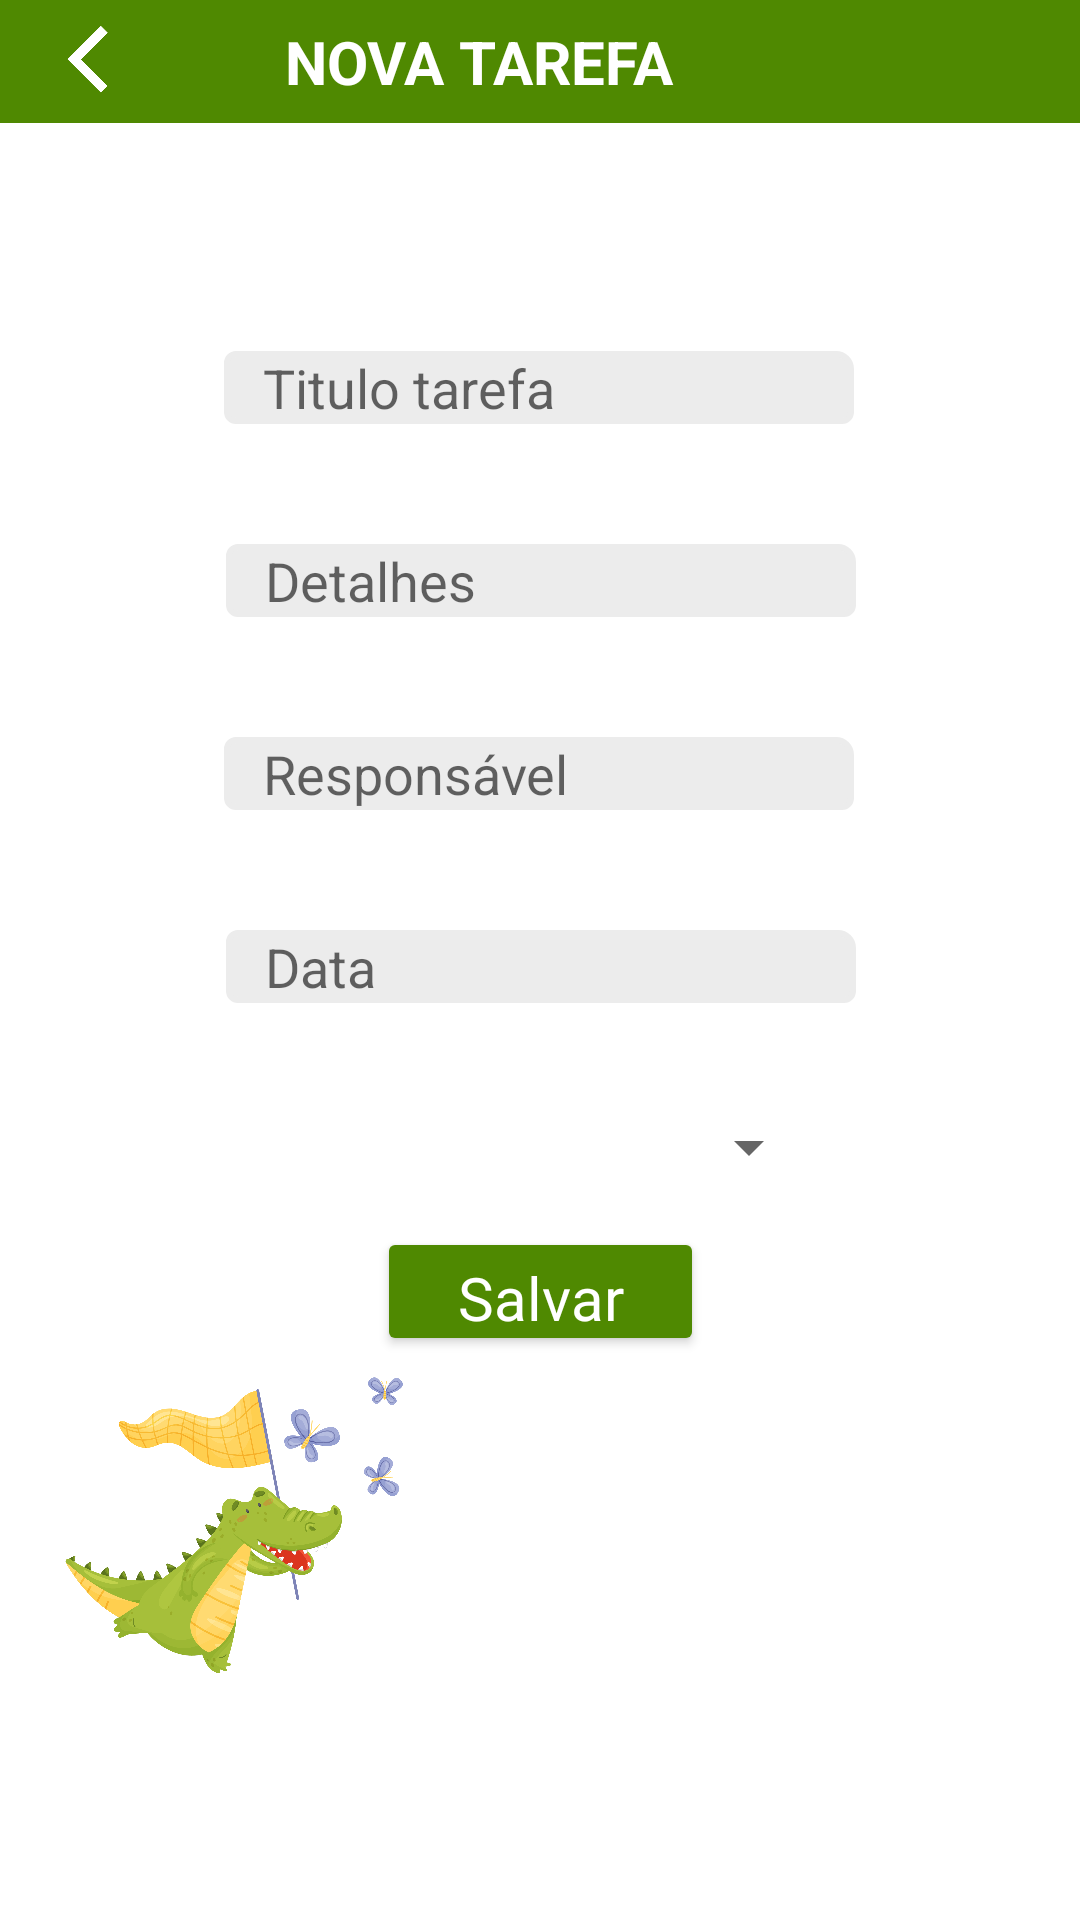

Icons on this 1080x1920 Android screen, each with its box as region(x1, y1, x2, y2):
jacare: region(65, 1377, 403, 1673)
